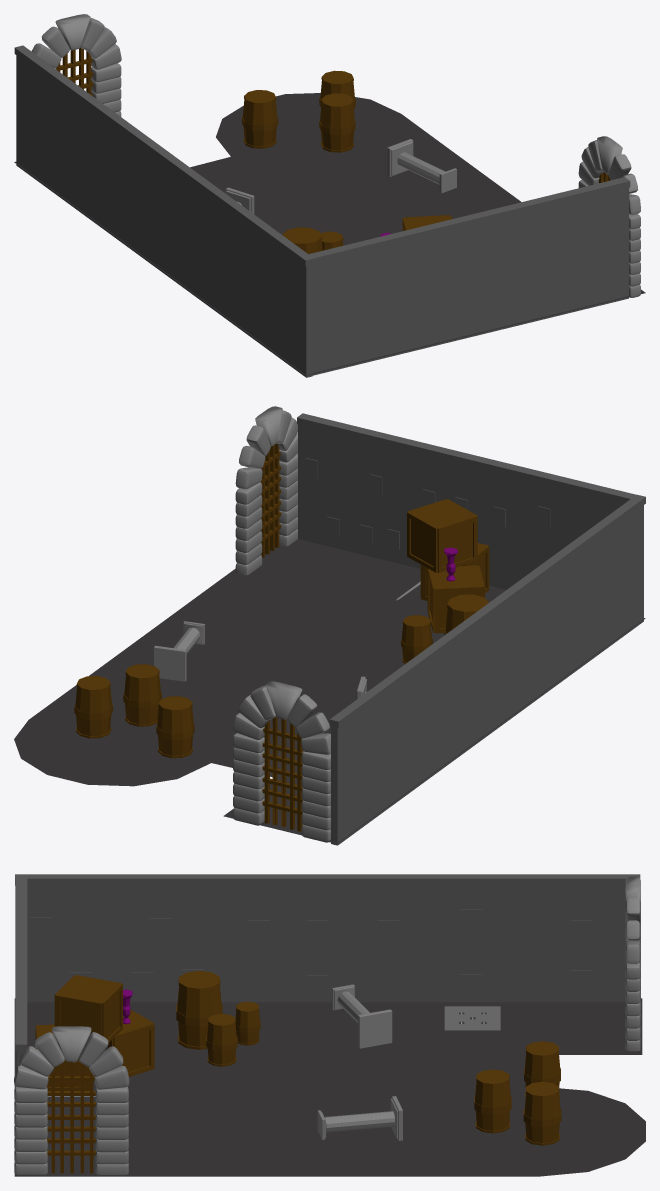
Rendered from first dungeon.fbx.
3 views of the same model, one above another, from view 1: azimuth 30°, elevation 25°; view 2: azimuth 150°, elevation 25°; view 3: azimuth 270°, elevation 25° (orthographic). The views are drawn at different scales.
Visible parts, largest first — view 1: pasted__polySurface17, pasted__polySurface16, polySurface2, pasted__pCube45, pasted__pCube46, polySurface11, polySurface13, polySurface4, pasted__pCube44, polySurface12, polySurface6; view 2: polySurface2, pasted__polySurface16, pasted__polySurface17, pasted__pCube45, pasted__pCube46, polySurface9, pasted__pCube44, polySurface8, polySurface12, polySurface13, polySurface11, pasted__pCube47 (+4 smaller); view 3: pasted__polySurface16, polySurface2, pasted__pCube46, polySurface9, pasted__pCube47, polySurface6, pasted__pCube45, pasted__polySurface17, polySurface12, polySurface11, polySurface8, polySurface3 (+6 smaller).
Part boxes in pixels (x1=…): pasted__polySurface17: x1=305, y1=177, x2=630, y2=375; pasted__polySurface16: x1=14, y1=45, x2=314, y2=377; polySurface2: x1=14, y1=93, x2=645, y2=375; pasted__pCube45: x1=31, y1=14, x2=121, y2=116; pasted__pCube46: x1=578, y1=136, x2=640, y2=297; polySurface11: x1=319, y1=93, x2=355, y2=152; polySurface13: x1=242, y1=90, x2=278, y2=148; polySurface4: x1=387, y1=139, x2=456, y2=193; pasted__pCube44: x1=56, y1=47, x2=93, y2=96; polySurface12: x1=319, y1=70, x2=355, y2=110; polySurface6: x1=282, y1=227, x2=322, y2=253; polySurface2: x1=14, y1=539, x2=645, y2=843; pasted__polySurface16: x1=329, y1=494, x2=645, y2=845; pasted__polySurface17: x1=297, y1=413, x2=638, y2=589; pasted__pCube45: x1=233, y1=681, x2=330, y2=842; pasted__pCube46: x1=235, y1=406, x2=297, y2=575; polySurface9: x1=407, y1=499, x2=477, y2=572; pasted__pCube44: x1=262, y1=717, x2=302, y2=831; polySurface8: x1=427, y1=565, x2=484, y2=633; polySurface12: x1=74, y1=676, x2=112, y2=738; polySurface13: x1=156, y1=696, x2=194, y2=758; polySurface11: x1=123, y1=664, x2=161, y2=726; pasted__pCube47: x1=260, y1=443, x2=281, y2=558; pasted__polySurface16: x1=15, y1=874, x2=640, y2=1002; polySurface2: x1=14, y1=998, x2=645, y2=1176; pasted__pCube46: x1=14, y1=1026, x2=129, y2=1174; polySurface9: x1=54, y1=975, x2=122, y2=1042; pasted__pCube47: x1=47, y1=1062, x2=96, y2=1173; polySurface6: x1=176, y1=970, x2=222, y2=1049; pasted__pCube45: x1=625, y1=876, x2=640, y2=1051; pasted__polySurface17: x1=15, y1=876, x2=27, y2=1066; polySurface12: x1=523, y1=1081, x2=561, y2=1145; polySurface11: x1=474, y1=1069, x2=511, y2=1133; polySurface8: x1=105, y1=1009, x2=154, y2=1076; polySurface3: x1=332, y1=984, x2=392, y2=1048.
Size of the model in its own units: 8.52 by 3.74 by 12.75.
